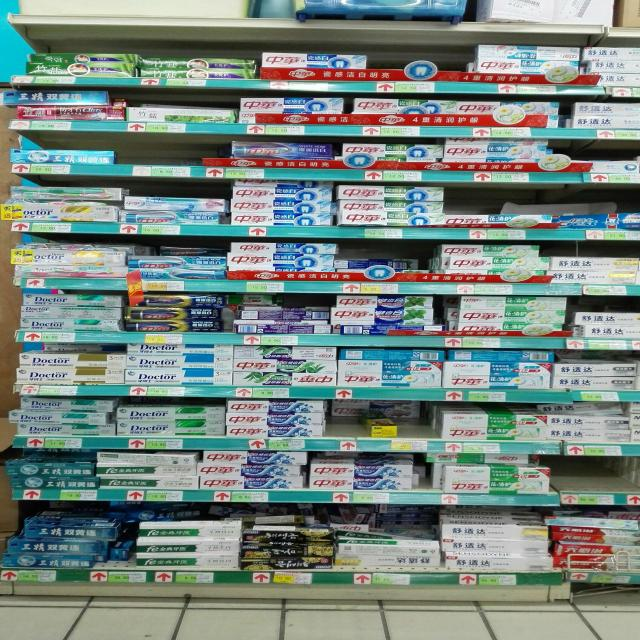empty: (354, 43, 477, 83), (553, 455, 640, 497), (107, 134, 199, 164)
